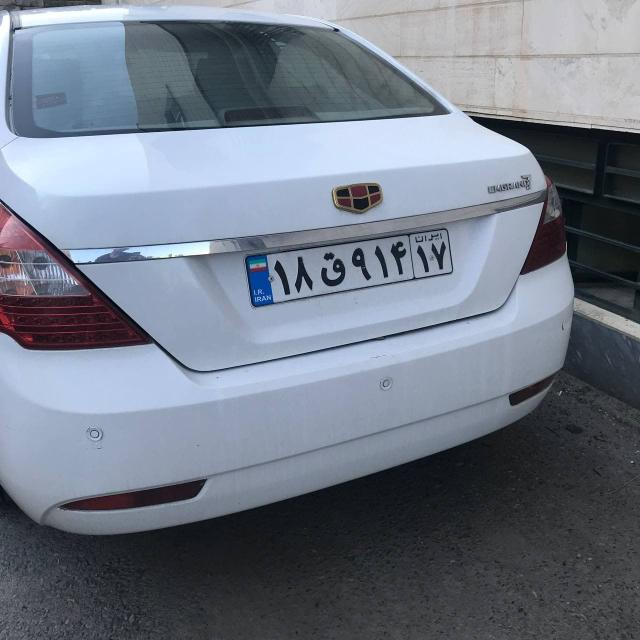Plates: (244, 226, 454, 307)
